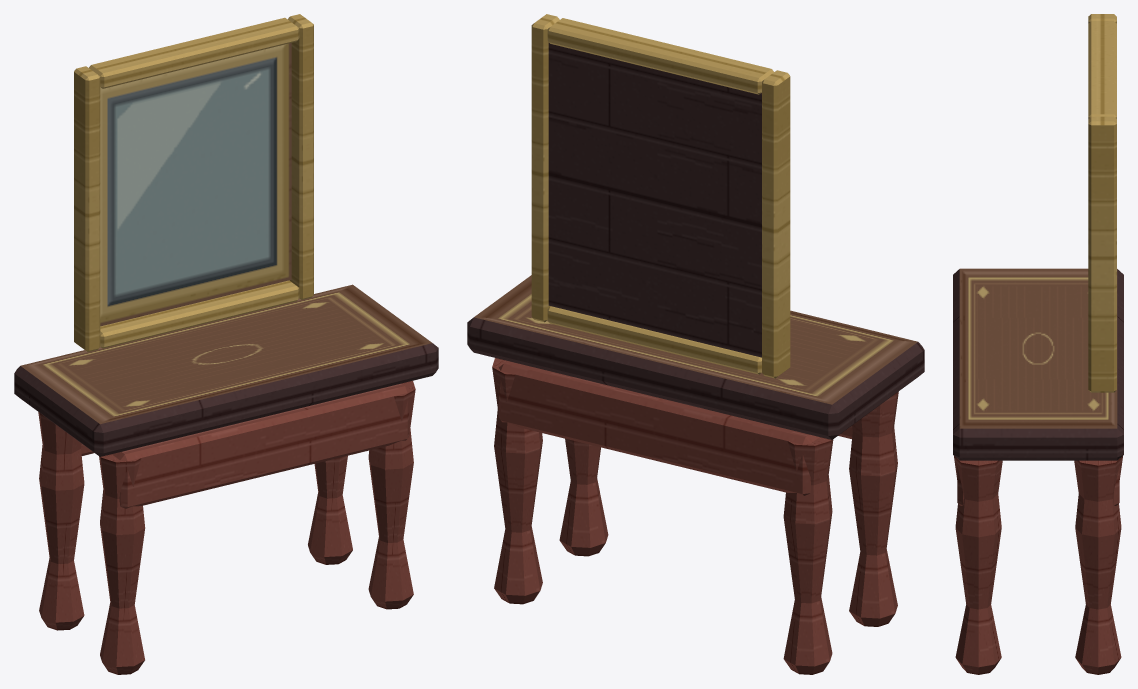
File: MD_81_VanityTable.fbx
The picture shows the model from 3 angles, left to right: view 1: azimuth 30°, elevation 25°; view 2: azimuth 150°, elevation 25°; view 3: azimuth 270°, elevation 25°; orthographic projection. The views are drawn at different scales.
Parts seen in each view (by area): view 1: MD_81_VanityTable_vanity_mirror_inset, MD_81_VanityTable_thick_inlaid_top, MD_81_VanityTable_carved_apron, MD_81_VanityTable_turned_leg.001, MD_81_VanityTable_vanity_mirror_upright, MD_81_VanityTable_turned_leg, MD_81_VanityTable_turned_leg.002, MD_81_VanityTable_vanity_mirror_upright.001, MD_81_VanityTable_vanity_mirror_cross.001, MD_81_VanityTable_vanity_mirror_cross, MD_81_VanityTable_turned_leg.003; view 2: MD_81_VanityTable_vanity_mirror_inset, MD_81_VanityTable_thick_inlaid_top, MD_81_VanityTable_carved_apron.001, MD_81_VanityTable_turned_leg, MD_81_VanityTable_vanity_mirror_upright, MD_81_VanityTable_turned_leg.001, MD_81_VanityTable_turned_leg.003, MD_81_VanityTable_vanity_mirror_cross.001, MD_81_VanityTable_vanity_mirror_upright.001, MD_81_VanityTable_turned_leg.002, MD_81_VanityTable_vanity_mirror_cross; view 3: MD_81_VanityTable_thick_inlaid_top, MD_81_VanityTable_turned_leg.002, MD_81_VanityTable_turned_leg.003, MD_81_VanityTable_vanity_mirror_upright.001, MD_81_VanityTable_vanity_mirror_cross.001.
Boxes of the visible parts, x1,y1,x2,y2 form: MD_81_VanityTable_vanity_mirror_inset: (100,43,291,326); MD_81_VanityTable_thick_inlaid_top: (14,284,438,456); MD_81_VanityTable_carved_apron: (112,383,409,508); MD_81_VanityTable_turned_leg.001: (38,412,84,630); MD_81_VanityTable_vanity_mirror_upright: (74,66,100,352); MD_81_VanityTable_turned_leg: (99,454,145,674); MD_81_VanityTable_turned_leg.002: (368,381,415,609); MD_81_VanityTable_vanity_mirror_upright.001: (288,14,313,299); MD_81_VanityTable_vanity_mirror_cross.001: (89,17,299,88); MD_81_VanityTable_vanity_mirror_cross: (100,280,299,348); MD_81_VanityTable_turned_leg.003: (308,455,352,564); MD_81_VanityTable_vanity_mirror_inset: (548,42,761,357); MD_81_VanityTable_thick_inlaid_top: (467,275,924,439); MD_81_VanityTable_carved_apron.001: (498,361,819,495); MD_81_VanityTable_turned_leg: (849,391,898,626); MD_81_VanityTable_vanity_mirror_upright: (762,70,790,378); MD_81_VanityTable_turned_leg.001: (783,437,833,674); MD_81_VanityTable_turned_leg.003: (492,358,542,604); MD_81_VanityTable_vanity_mirror_cross.001: (547,18,773,94); MD_81_VanityTable_vanity_mirror_upright.001: (531,14,559,322); MD_81_VanityTable_turned_leg.002: (559,438,608,556); MD_81_VanityTable_vanity_mirror_cross: (547,306,761,374); MD_81_VanityTable_thick_inlaid_top: (953,268,1123,460); MD_81_VanityTable_turned_leg.002: (953,455,1002,674); MD_81_VanityTable_turned_leg.003: (1074,455,1123,674); MD_81_VanityTable_vanity_mirror_upright.001: (1088,116,1116,392); MD_81_VanityTable_vanity_mirror_cross.001: (1088,21,1116,118).
Size of the model in its own units: 1.1 by 1.66 by 0.48.
Materials: 4 (4 with a texture image).
